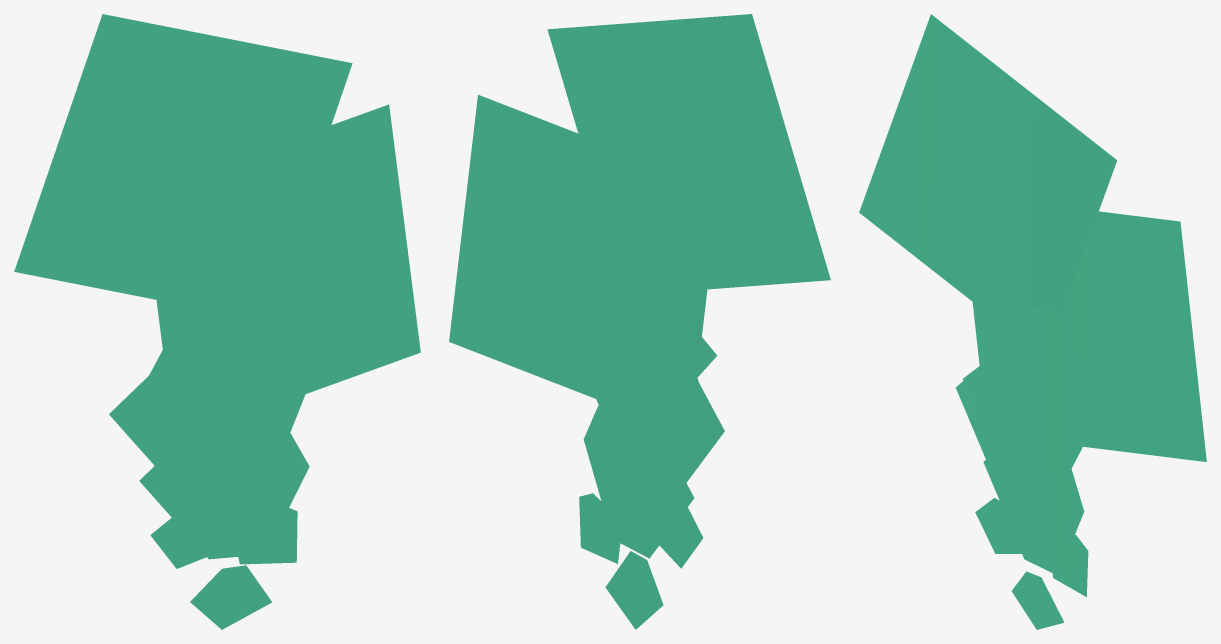
The model's file is Prop_Vine4.glb.
3 renders of one model, left to right at view 1: azimuth 30°, elevation 25°; view 2: azimuth 150°, elevation 25°; view 3: azimuth 330°, elevation 25°, orthographic. The views are drawn at different scales.
Parts seen in each view (by area): view 1: Prop_Vine4; view 2: Prop_Vine4; view 3: Prop_Vine4.
Part boxes in pixels (x1=…): Prop_Vine4: x1=14, y1=14, x2=420, y2=629; Prop_Vine4: x1=449, y1=14, x2=830, y2=629; Prop_Vine4: x1=859, y1=14, x2=1206, y2=629.
Bounding box in the file's own units: 1.02 × 1.59 × 0.15.
